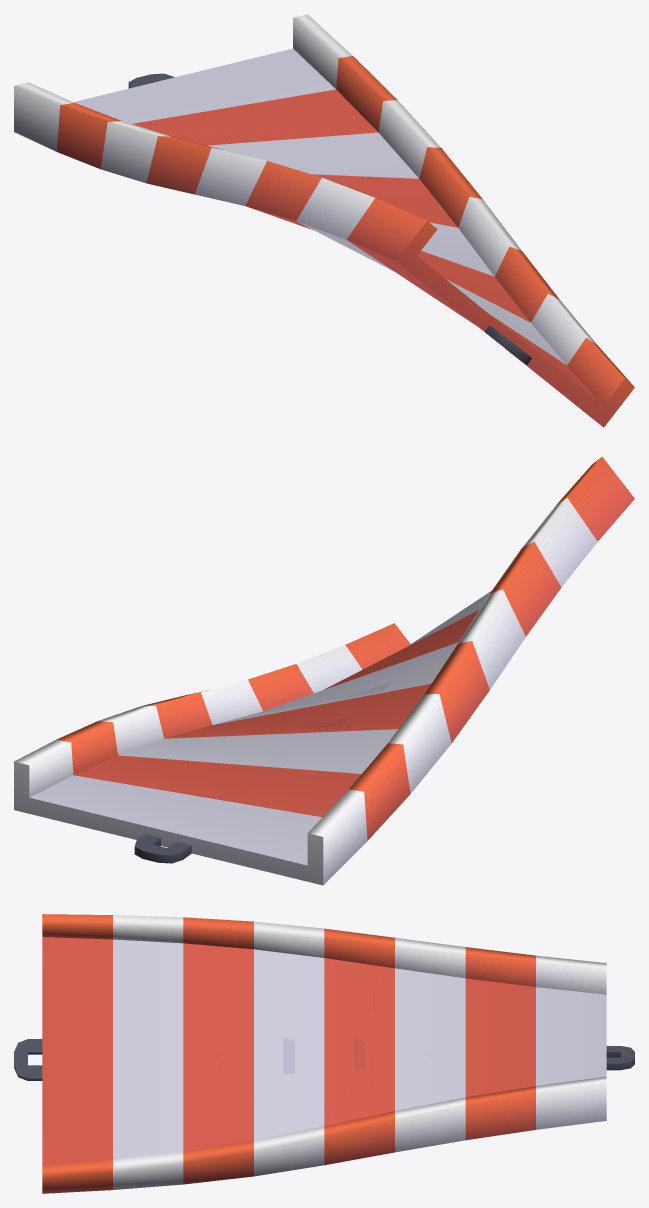
Rendered from track-striped-wide-straight-skew-left.glb.
3 views of the same model, one above another, from view 1: azimuth 30°, elevation 25°; view 2: azimuth 150°, elevation 25°; view 3: azimuth 270°, elevation 25° (orthographic). The views are drawn at different scales.
Parts seen in each view (by area): view 1: track-striped-wide-straight-skew-left; view 2: track-striped-wide-straight-skew-left; view 3: track-striped-wide-straight-skew-left.
Part boxes in pixels (<box>): track-striped-wide-straight-skew-left: <box>14,14,634,427</box>; track-striped-wide-straight-skew-left: <box>14,456,634,885</box>; track-striped-wide-straight-skew-left: <box>14,914,634,1193</box>.
Bounding box in the file's own units: 6.13 × 4.88 × 13.2.
1 material, 1 textured.
